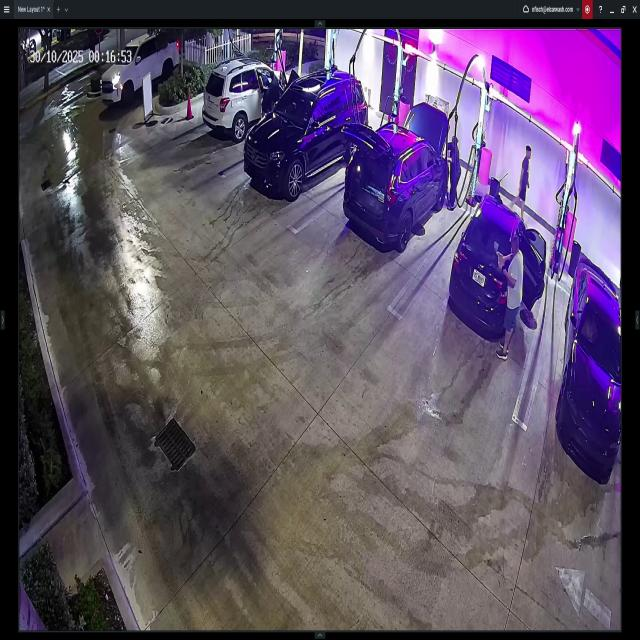Car: (341, 100, 448, 248), (244, 72, 367, 196), (452, 194, 546, 346), (557, 260, 622, 473), (206, 48, 294, 140), (100, 24, 180, 100)
